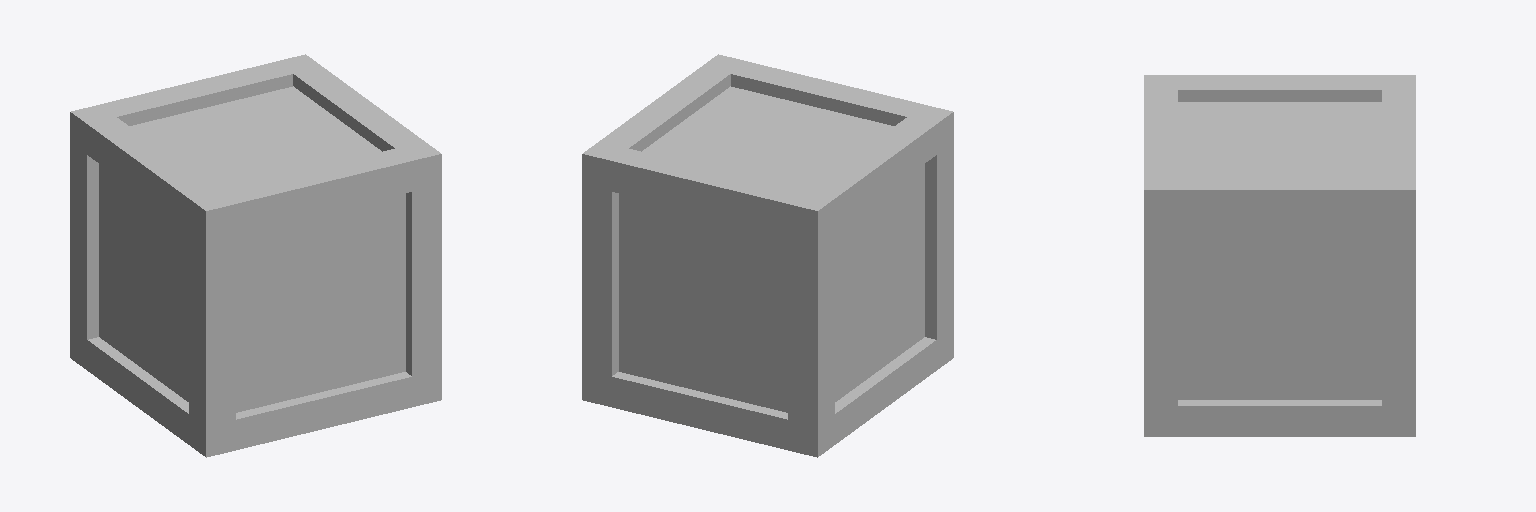
File: crate.obj
3 views of the same model, side by side, from view 1: azimuth 30°, elevation 25°; view 2: azimuth 150°, elevation 25°; view 3: azimuth 270°, elevation 25° (orthographic).
Visible parts, largest first — view 1: Cube_Cube.001; view 2: Cube_Cube.001; view 3: Cube_Cube.001.
Part boxes in pixels (x1,y1,x2,y2): Cube_Cube.001: (70, 54, 441, 457); Cube_Cube.001: (582, 54, 953, 457); Cube_Cube.001: (1144, 75, 1415, 436).
Bounding box in the file's own units: 2 × 2 × 2.